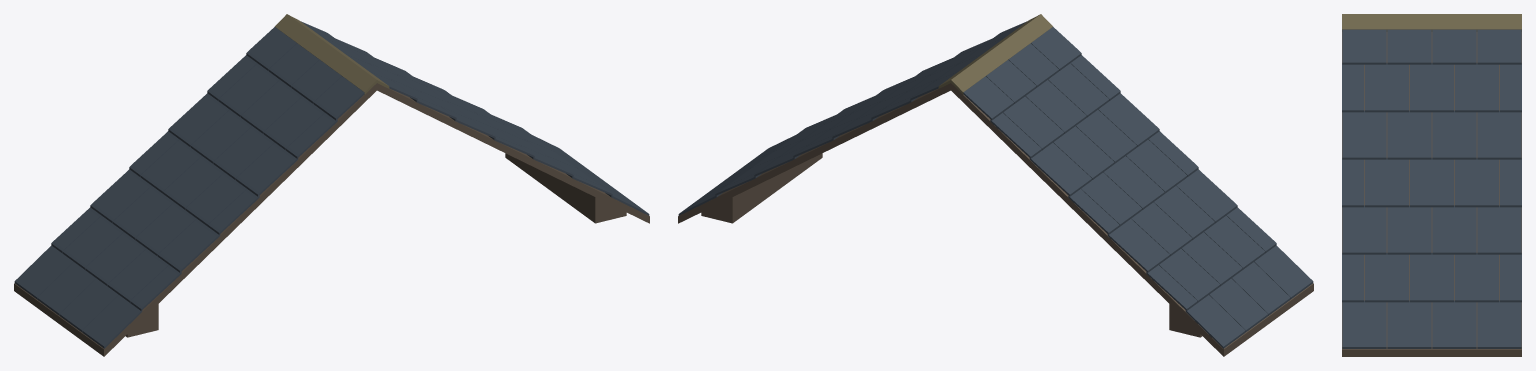
Rendered from rpg-mansion-slate-gable-span-01.glb.
3 views of the same model, side by side, from view 1: azimuth 30°, elevation 25°; view 2: azimuth 150°, elevation 25°; view 3: azimuth 270°, elevation 25° (orthographic).
Visible parts, largest first — view 1: rpg-mansion-slate-gable-span-01; view 2: rpg-mansion-slate-gable-span-01; view 3: rpg-mansion-slate-gable-span-01.
Boxes of the visible parts, bbox=[...] form: rpg-mansion-slate-gable-span-01: bbox=[14, 14, 649, 356]; rpg-mansion-slate-gable-span-01: bbox=[678, 14, 1313, 356]; rpg-mansion-slate-gable-span-01: bbox=[1342, 14, 1521, 356].
Bounding box in the file's own units: 4.2 × 1.55 × 1.2.
